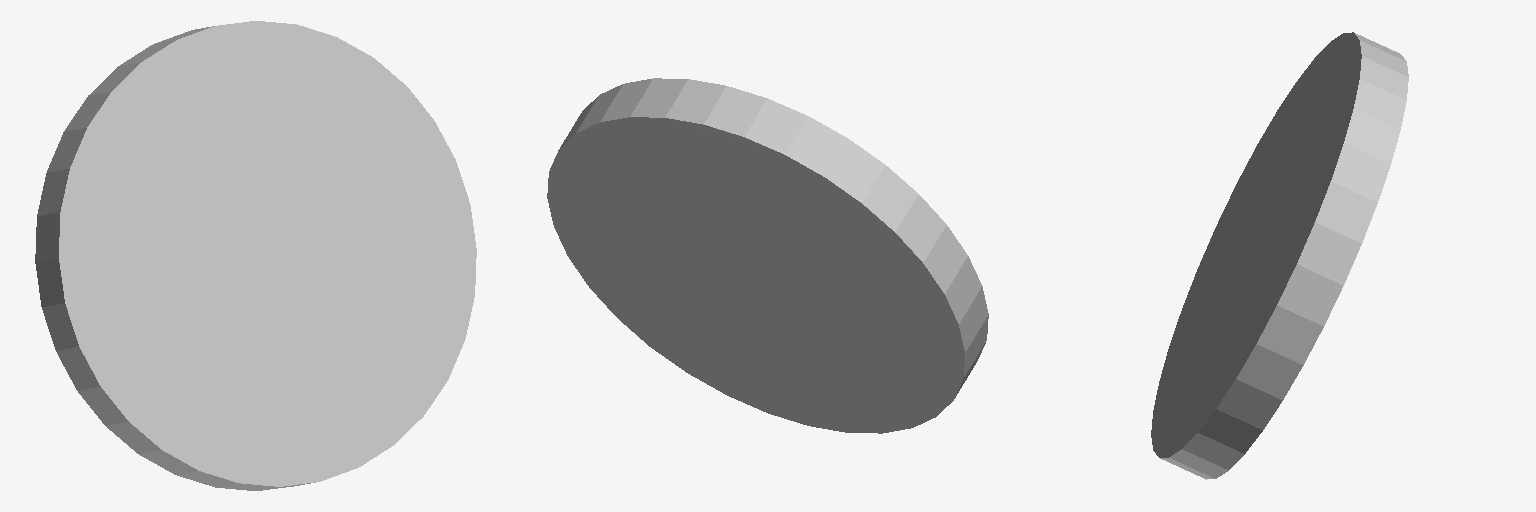
The model's file is rc2_icon.obj.
3 renders of one model, left to right at view 1: azimuth 30°, elevation 25°; view 2: azimuth 150°, elevation 25°; view 3: azimuth 270°, elevation 25°, orthographic.
Parts seen in each view (by area): view 1: Cube.021; view 2: Cube.021; view 3: Cube.021.
Boxes of the visible parts, x1=… form: Cube.021: x1=35, y1=21, x2=476, y2=490; Cube.021: x1=547, y1=78, x2=988, y2=433; Cube.021: x1=1151, y1=32, x2=1408, y2=479.
Size of the model in its own units: 0.006 by 0.0057 by 0.0033.